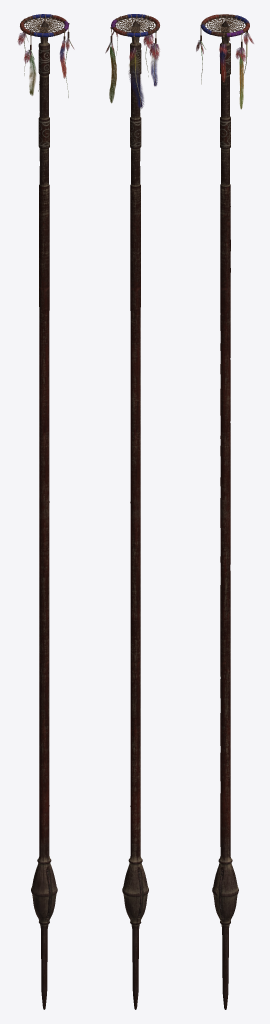
Rendered from SM_BastonDeMando.glb.
3 views of the same model, side by side, from view 1: azimuth 30°, elevation 25°; view 2: azimuth 210°, elevation 25°; view 3: azimuth 330°, elevation 25° (orthographic).
Parts seen in each view (by area): view 1: PaloSagrado_Low; view 2: PaloSagrado_Low; view 3: PaloSagrado_Low.
Boxes of the visible parts, left/top/right/bottom form: PaloSagrado_Low: left=17, top=14, right=74, bottom=1009; PaloSagrado_Low: left=105, top=14, right=159, bottom=1009; PaloSagrado_Low: left=196, top=14, right=253, bottom=1009.
Size of the model in its own units: 0.1521 by 2.6 by 0.1448.
Materials: 3 (3 with a texture image).
